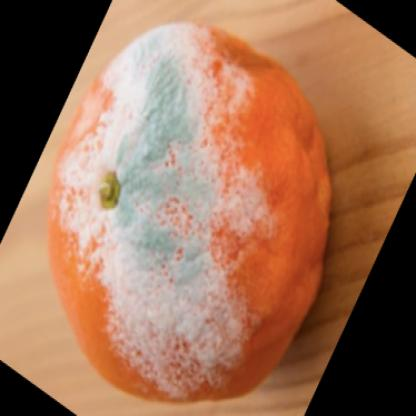rotten: (45, 23, 329, 408)
